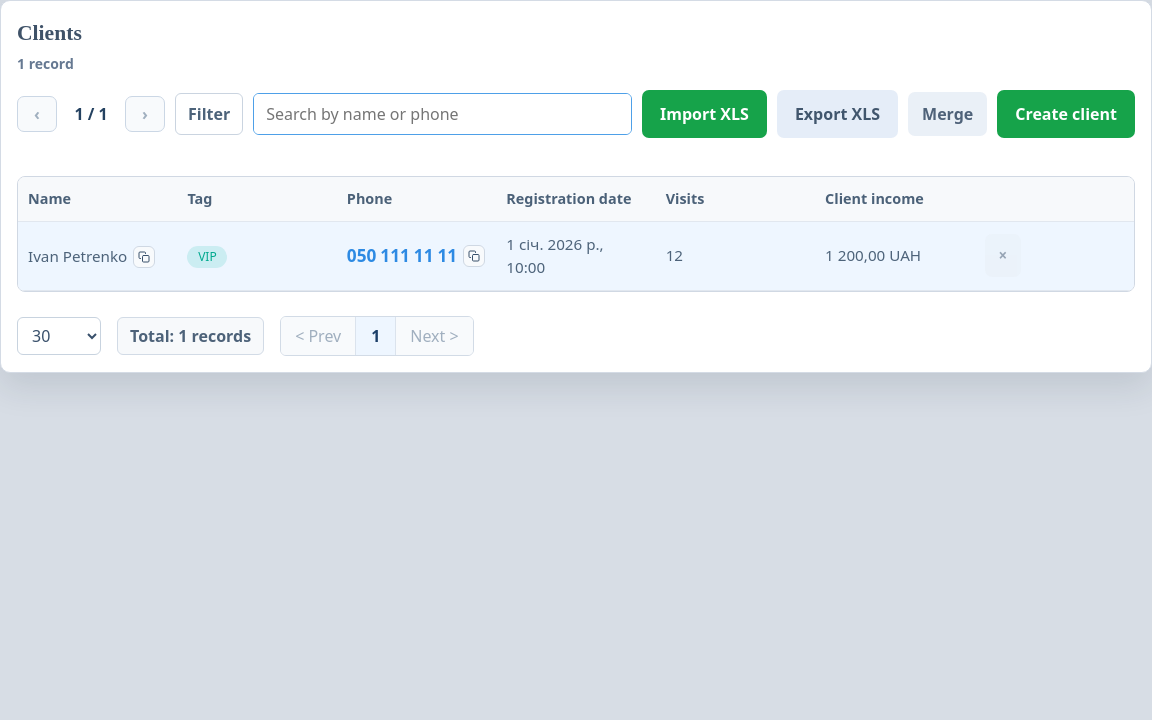
Test: ClientsWorkspace › paginates client sales history by 10 items
This screenshot has width=1152, height=720.
What coordinates should you click on to do the following:
click the text "Ivan Petrenko"
I would click on:
 (78, 257)
Its box is x1=28 y1=245 x2=127 y2=268.
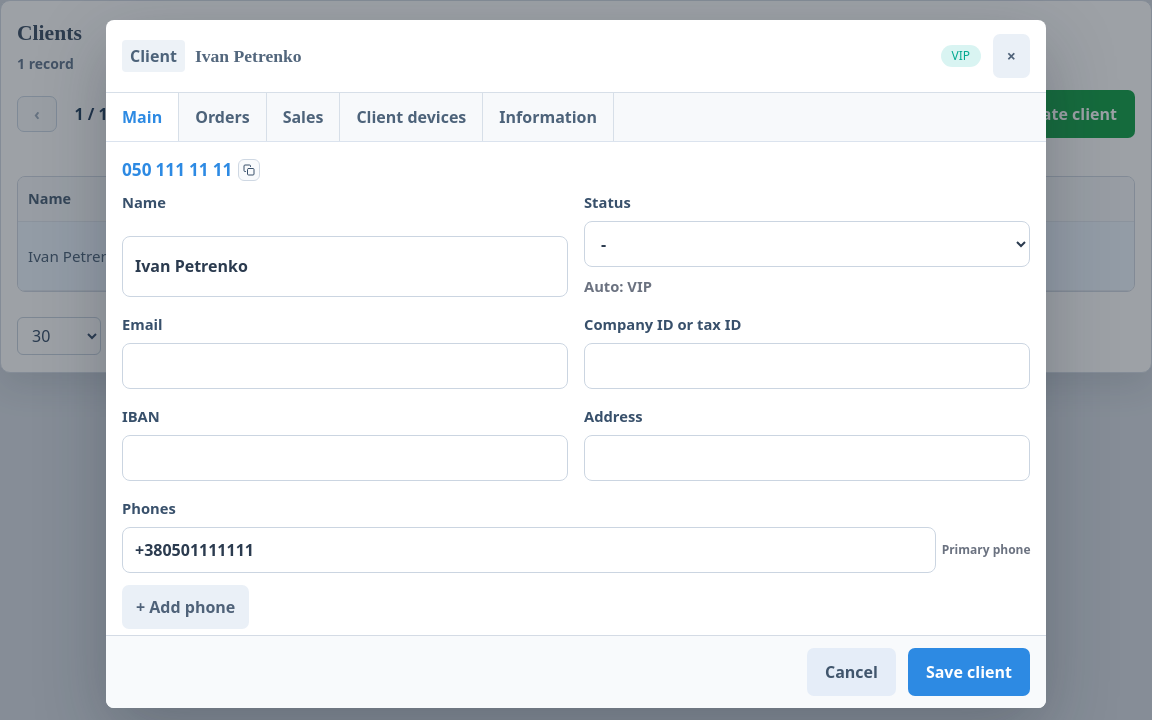
What coordinates should you click on to do the following:
click the tab "Sales"
I would click on:
 (304, 117)
Its box is x1=267 y1=93 x2=340 y2=141.
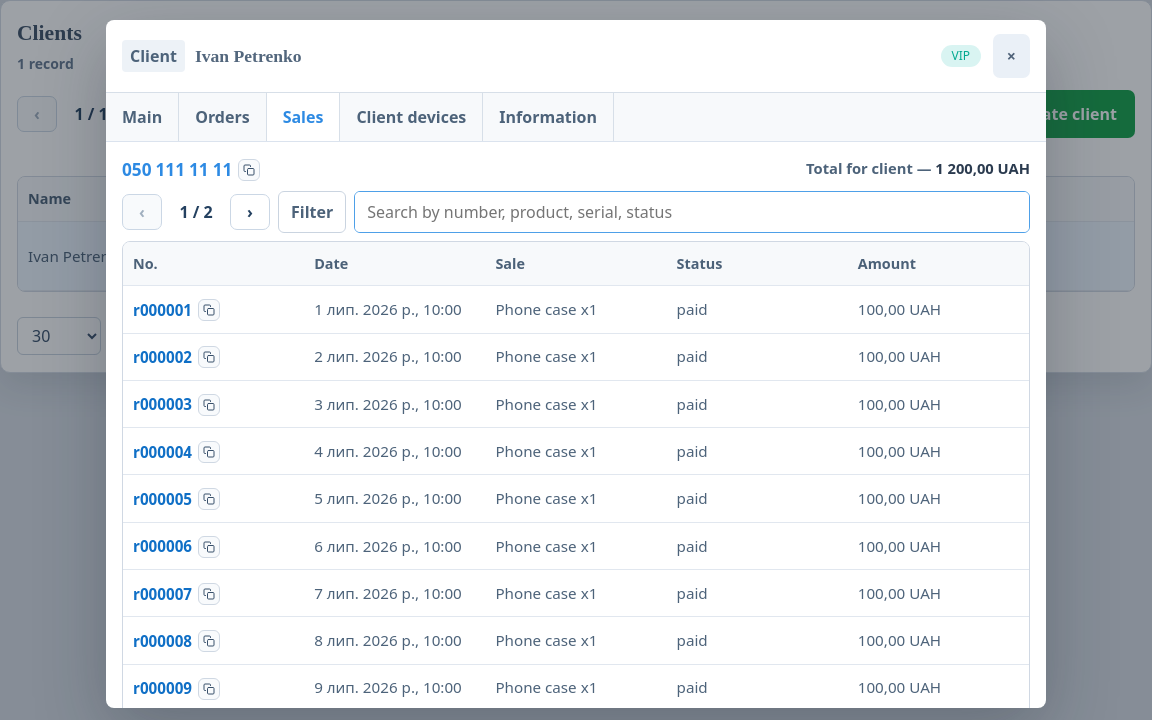
Expected: the link "r000011" is not shown
Expected: the link "r000001" is shown, x1=133 y1=299 x2=192 y2=322
Expected: the text labelled "1 / 2" is shown, x1=179 y1=201 x2=213 y2=223
What coordinates should you click on to do the following:
click the button named "Next page"
I would click on:
 (250, 212)
Its box is x1=230 y1=194 x2=270 y2=230.
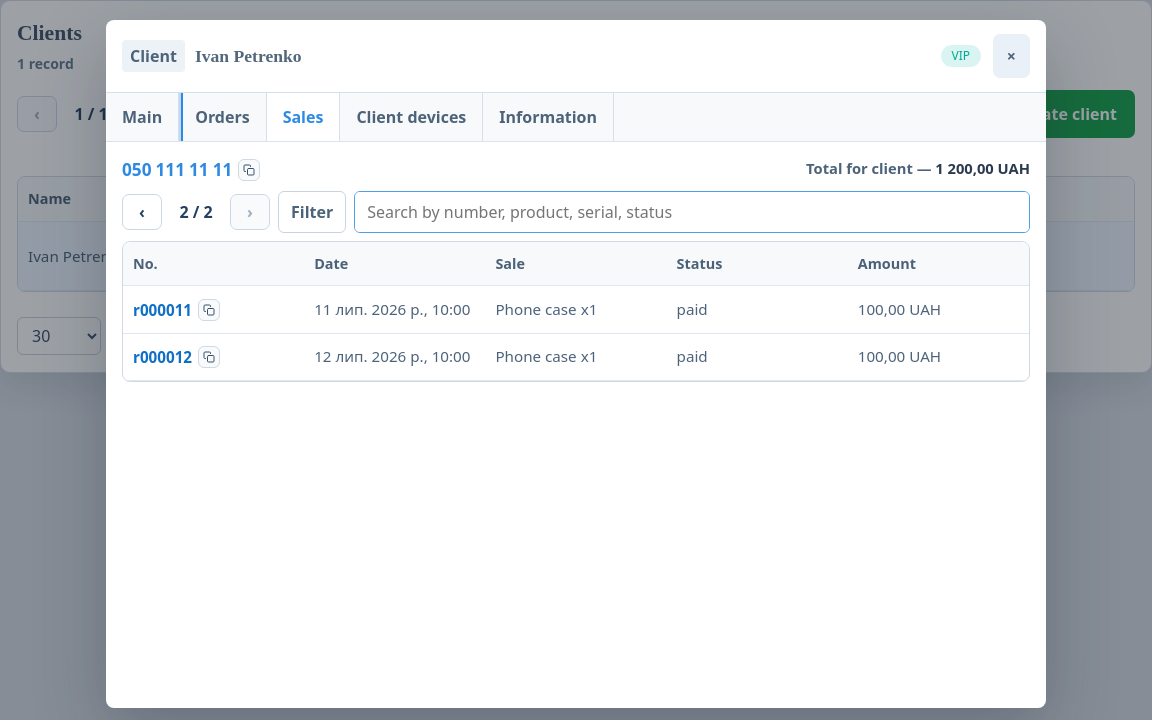
Expected: the link "r000001" is gone
Expected: the link "r000011" is shown, x1=133 y1=299 x2=192 y2=322
Expected: the link "r000012" is shown, x1=133 y1=346 x2=192 y2=369
